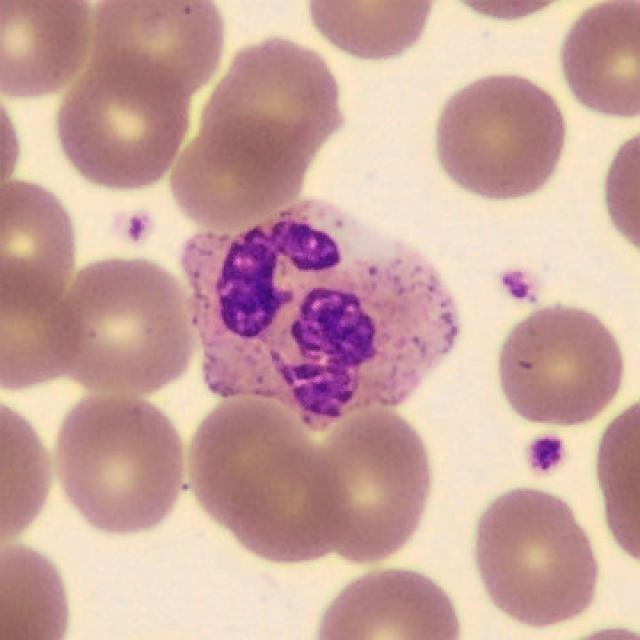Neutrofilo segmentado: (181, 199, 460, 434)
